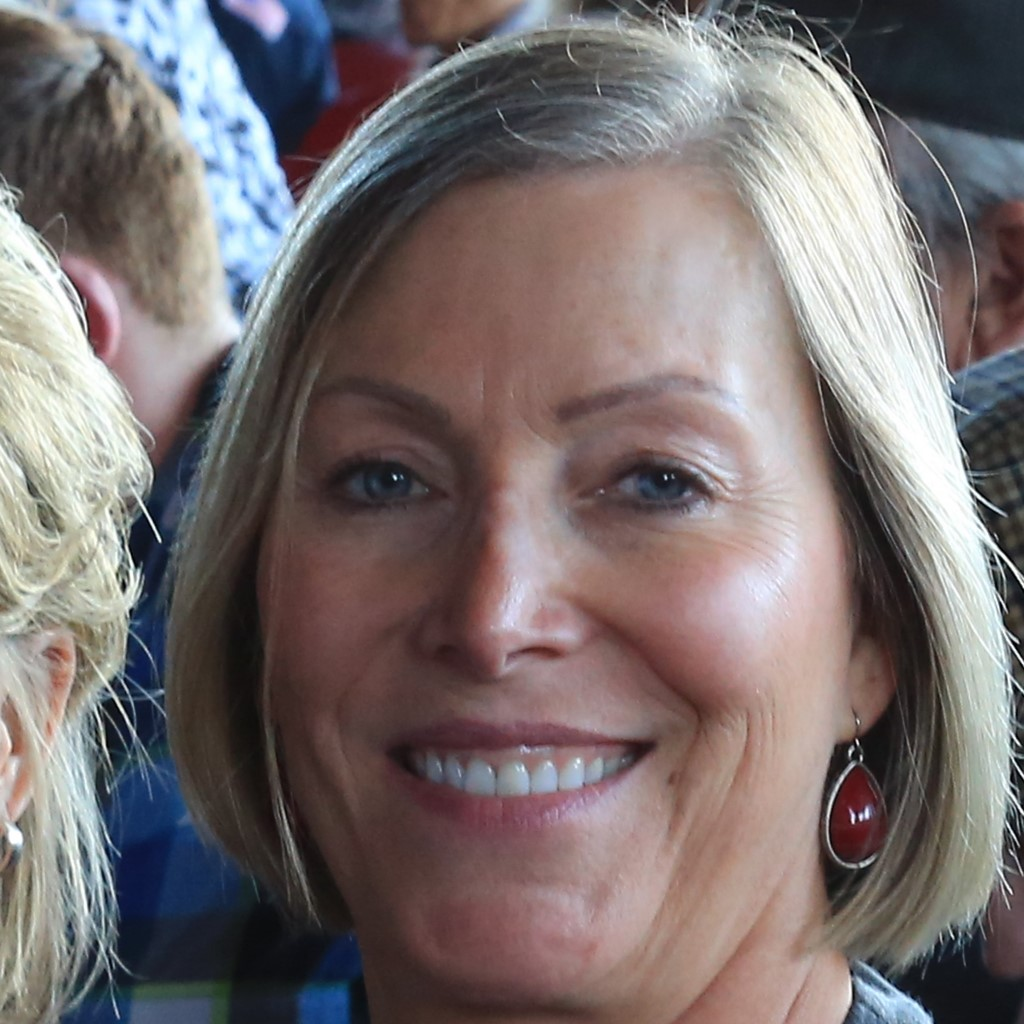sin_mascara: (246, 117, 902, 1005)
